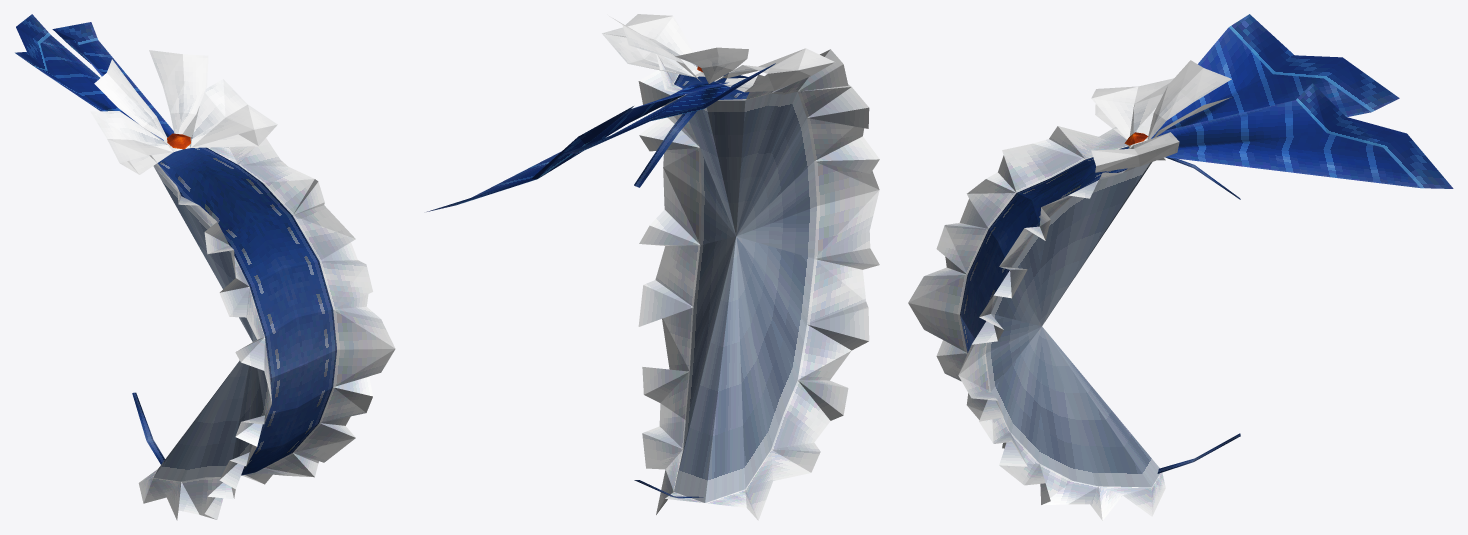
File: acce481.obj
3 renders of one model, left to right at view 1: azimuth 30°, elevation 25°; view 2: azimuth 150°, elevation 25°; view 3: azimuth 270°, elevation 25°, orthographic. The views are drawn at different scales.
Visible parts, largest first — view 1: acce481; view 2: acce481; view 3: acce481.
Boxes of the visible parts, x1=… form: acce481: x1=15, y1=14, x2=395, y2=520; acce481: x1=427, y1=14, x2=879, y2=520; acce481: x1=908, y1=14, x2=1453, y2=520.
Size of the model in its own units: 0.3476 by 0.6109 by 0.6986.
Materials: 1 (1 with a texture image).
